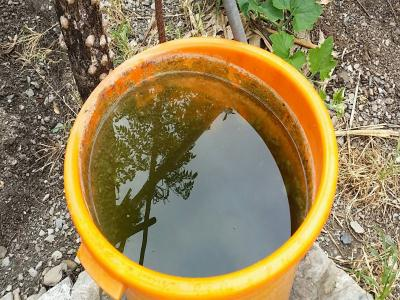bucket: (58, 34, 343, 299)
